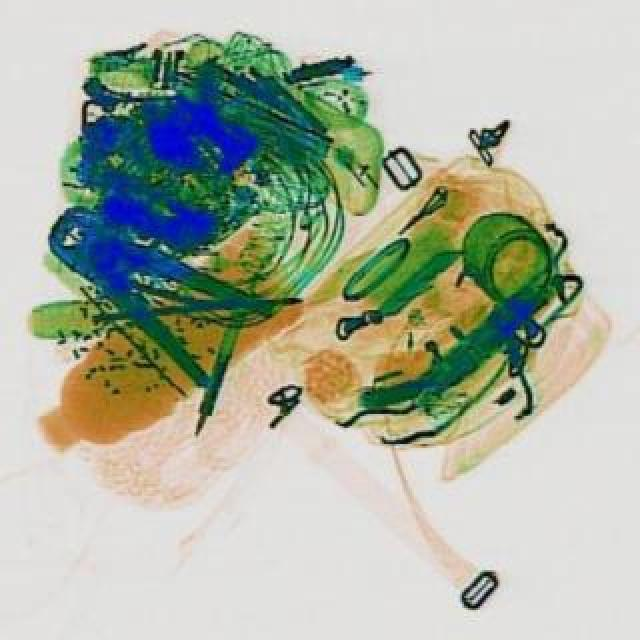wrench: (20, 174, 276, 390)
